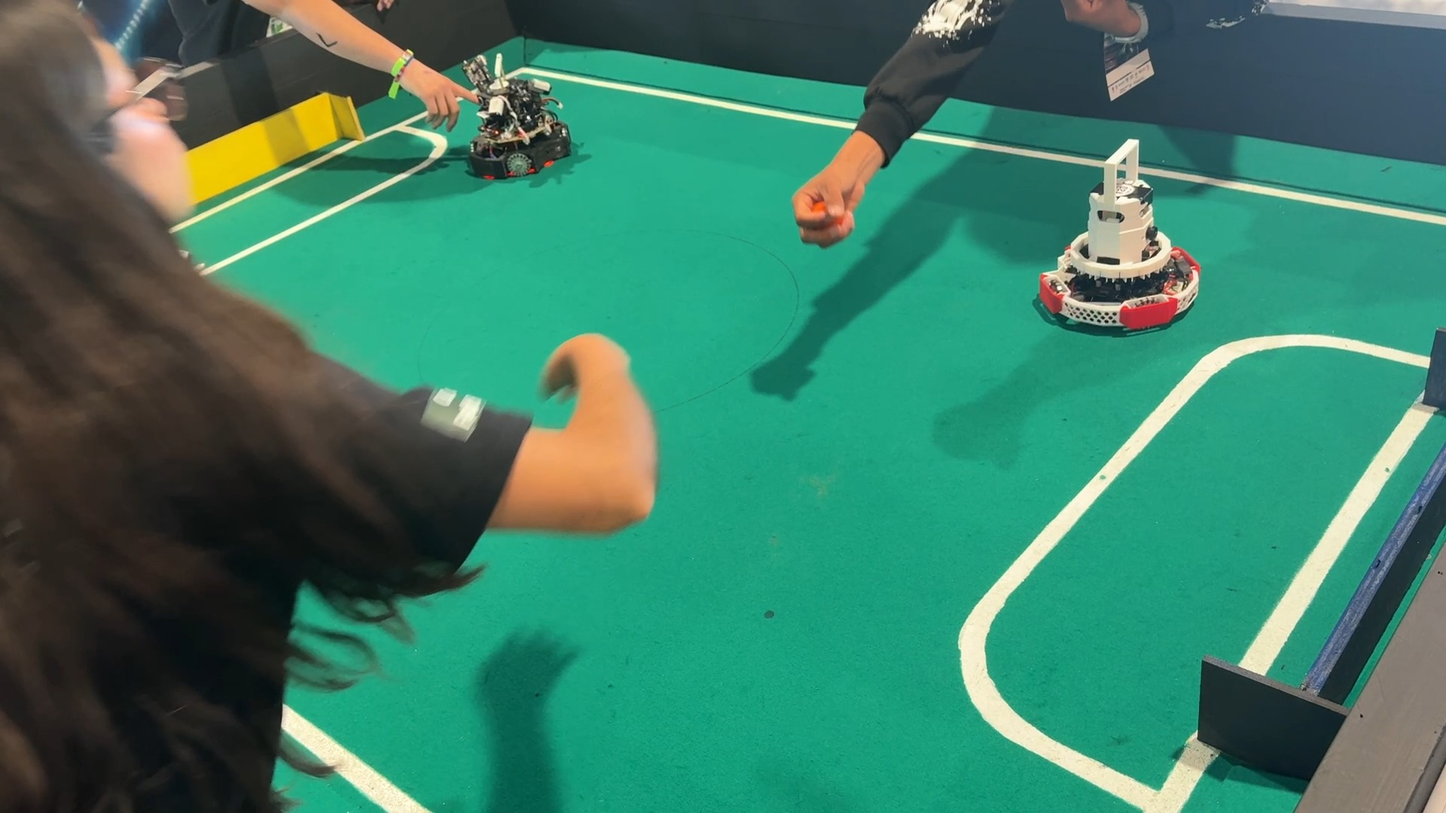Robot: (1034, 132, 1215, 355), (450, 28, 590, 192)
